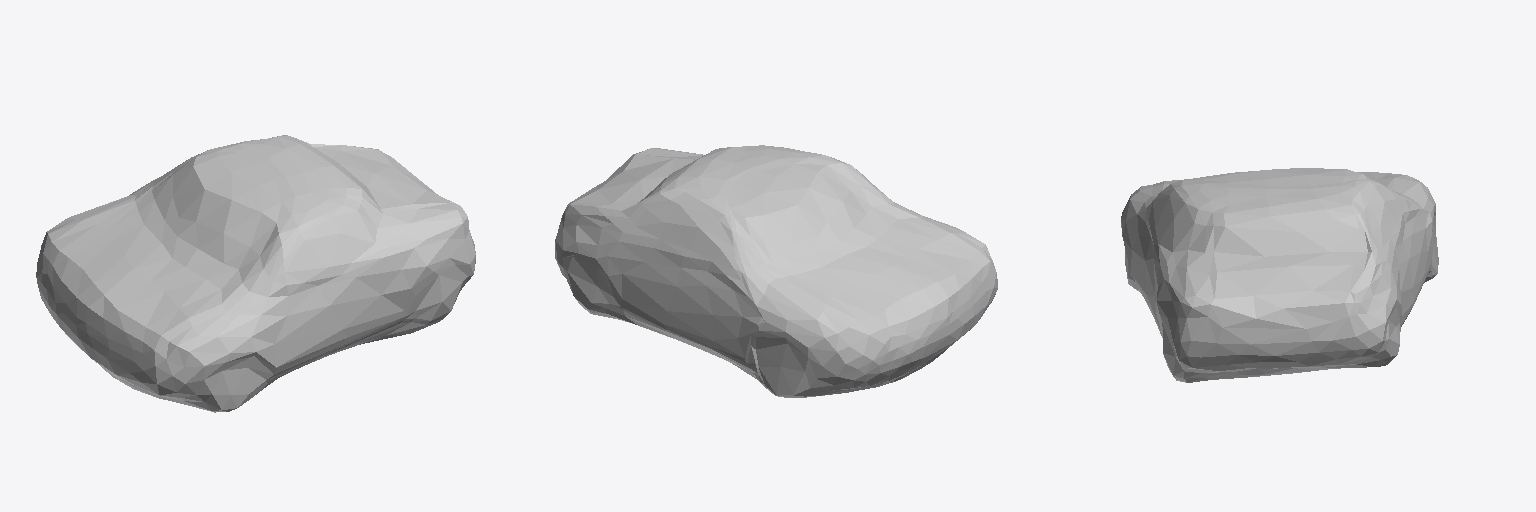
The model's file is video3_314.obj.
3 renders of one model, left to right at view 1: azimuth 30°, elevation 25°; view 2: azimuth 150°, elevation 25°; view 3: azimuth 270°, elevation 25°, orthographic.
Bounding box in the file's own units: 1 × 0.4331 × 0.7656.